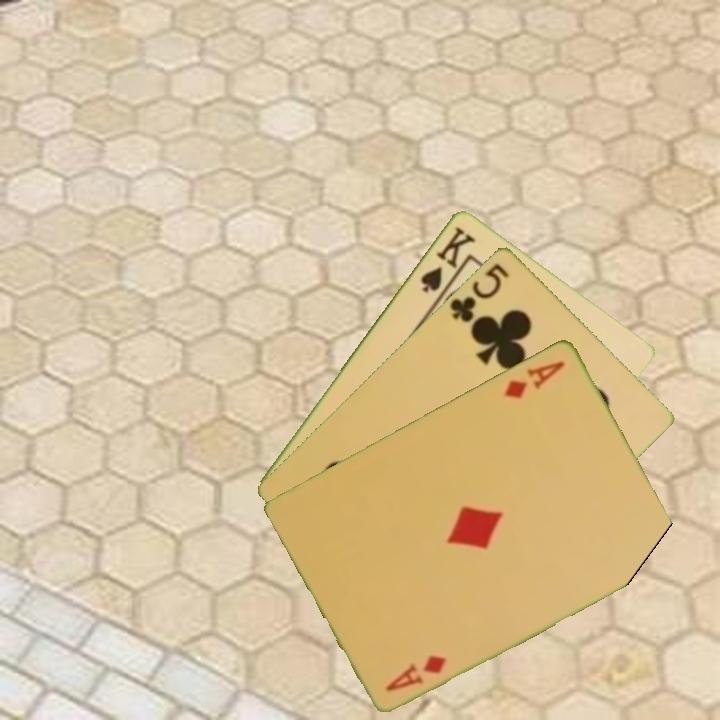5c: (446, 259, 512, 325)
Ad: (500, 357, 568, 401), (382, 651, 450, 694)
Ks: (417, 222, 479, 295)
